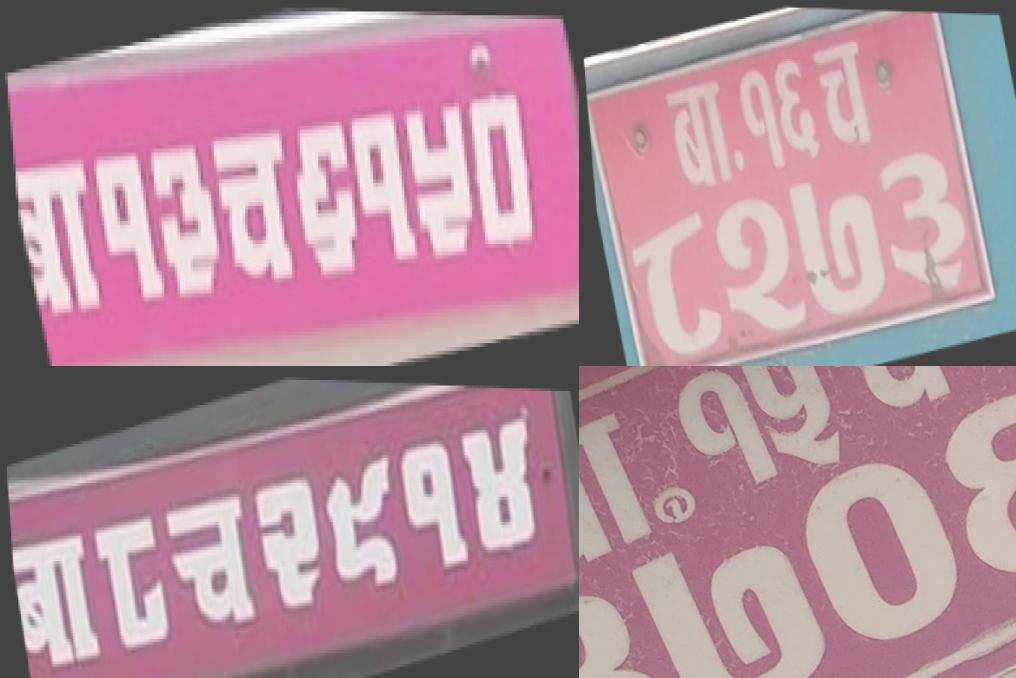0: (768, 441, 973, 651), (448, 72, 544, 258)
1: (644, 366, 780, 508), (82, 131, 167, 324), (336, 94, 422, 279), (394, 424, 470, 580), (726, 57, 788, 183)
2: (699, 180, 809, 353), (245, 458, 324, 616)
3: (863, 133, 975, 308), (130, 123, 230, 316)
4: (456, 401, 539, 554)
5: (388, 86, 487, 275), (722, 366, 849, 476)
6: (906, 368, 1016, 597), (274, 100, 368, 286), (765, 43, 824, 172)
7: (609, 520, 838, 678), (778, 155, 893, 331)
8: (615, 201, 728, 366), (86, 500, 170, 658)
9: (314, 442, 402, 601)
ba: (8, 122, 112, 334), (8, 516, 99, 678), (579, 399, 659, 577), (653, 70, 738, 205)
cha: (196, 108, 310, 304), (156, 477, 256, 642), (802, 27, 881, 161), (807, 366, 958, 419)
